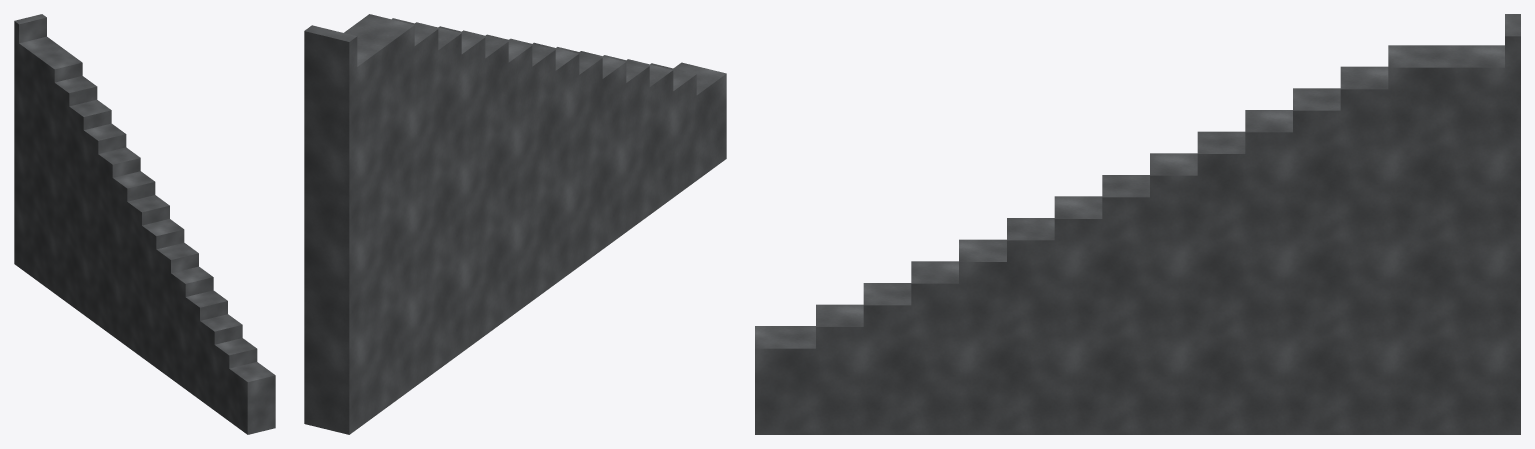
File: end_cap_large.glb
3 views of the same model, side by side, from view 1: azimuth 30°, elevation 25°; view 2: azimuth 150°, elevation 25°; view 3: azimuth 270°, elevation 25° (orthographic). The views are drawn at different scales.
Visible parts, largest first — view 1: end_cap_large; view 2: end_cap_large; view 3: end_cap_large.
Boxes of the visible parts, box(x1,y1,x2,y2) form: end_cap_large: box(14, 14, 275, 434); end_cap_large: box(304, 14, 726, 434); end_cap_large: box(755, 14, 1520, 434).
Bounding box in the file's own units: 1 × 8.3 × 14.45.
Materials: 1 (1 with a texture image).
